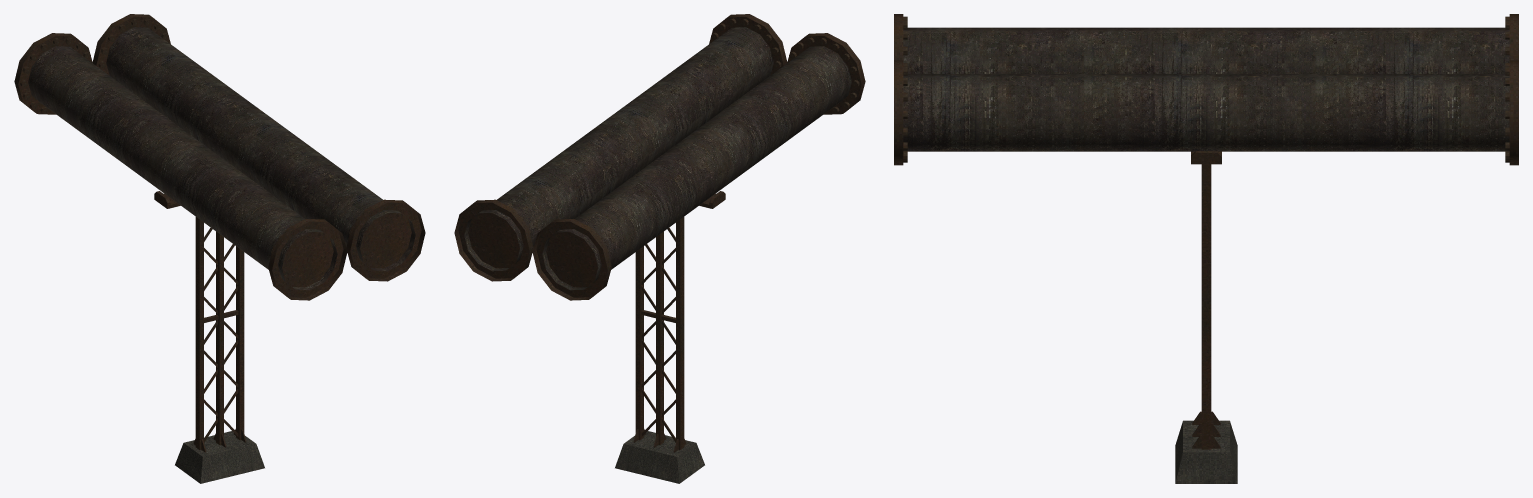
Rendered from pipe_cx_5.glb.
3 views of the same model, side by side, from view 1: azimuth 30°, elevation 25°; view 2: azimuth 150°, elevation 25°; view 3: azimuth 270°, elevation 25° (orthographic). The views are drawn at different scales.
Visible parts, largest first — view 1: pipe_cx_5; view 2: pipe_cx_5; view 3: pipe_cx_5.
Boxes of the visible parts, x1=… form: pipe_cx_5: x1=14, y1=14, x2=425, y2=483; pipe_cx_5: x1=454, y1=14, x2=865, y2=483; pipe_cx_5: x1=894, y1=14, x2=1518, y2=483.
Bounding box in the file's own units: 1.38 × 2.99 × 4.
Materials: 3 (3 with a texture image).
